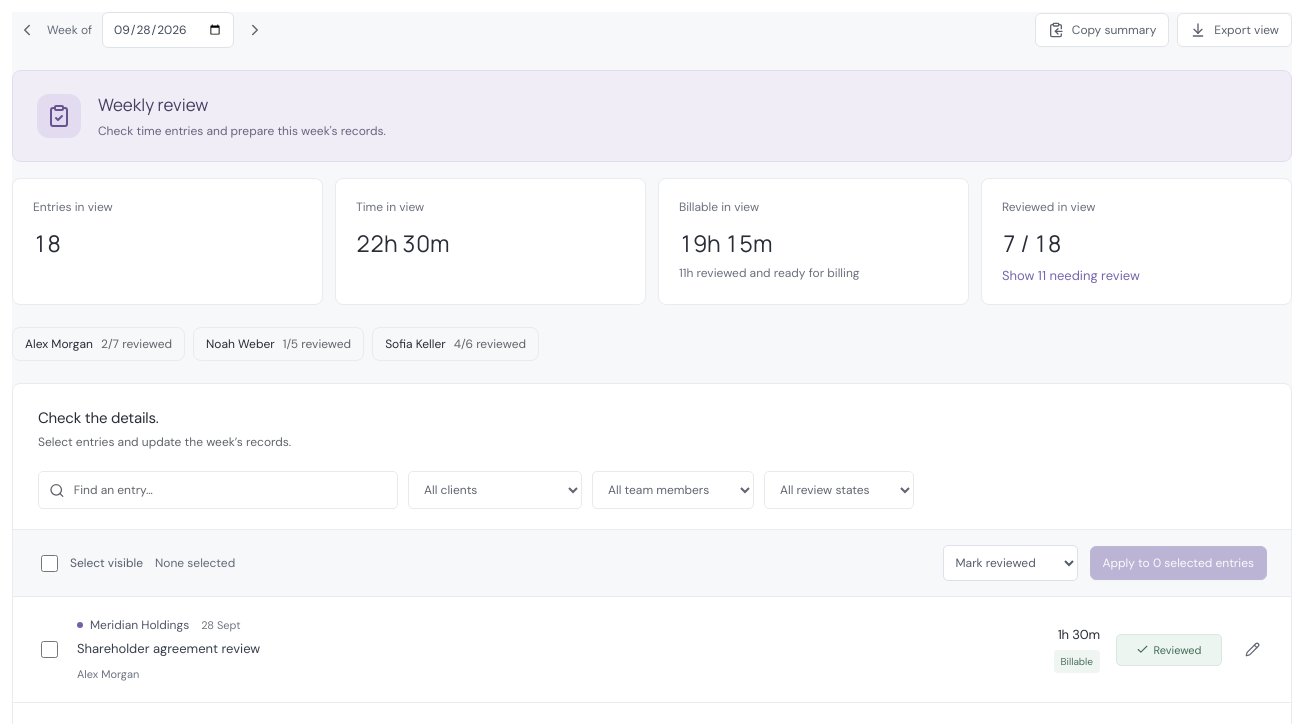
Test case: Weekly review scope › shows reviewed billable time and lets you clear active filters
Select "Meridian Holdings" in the dropdown named "Review client" at (495, 490), box [408,471,582,509]
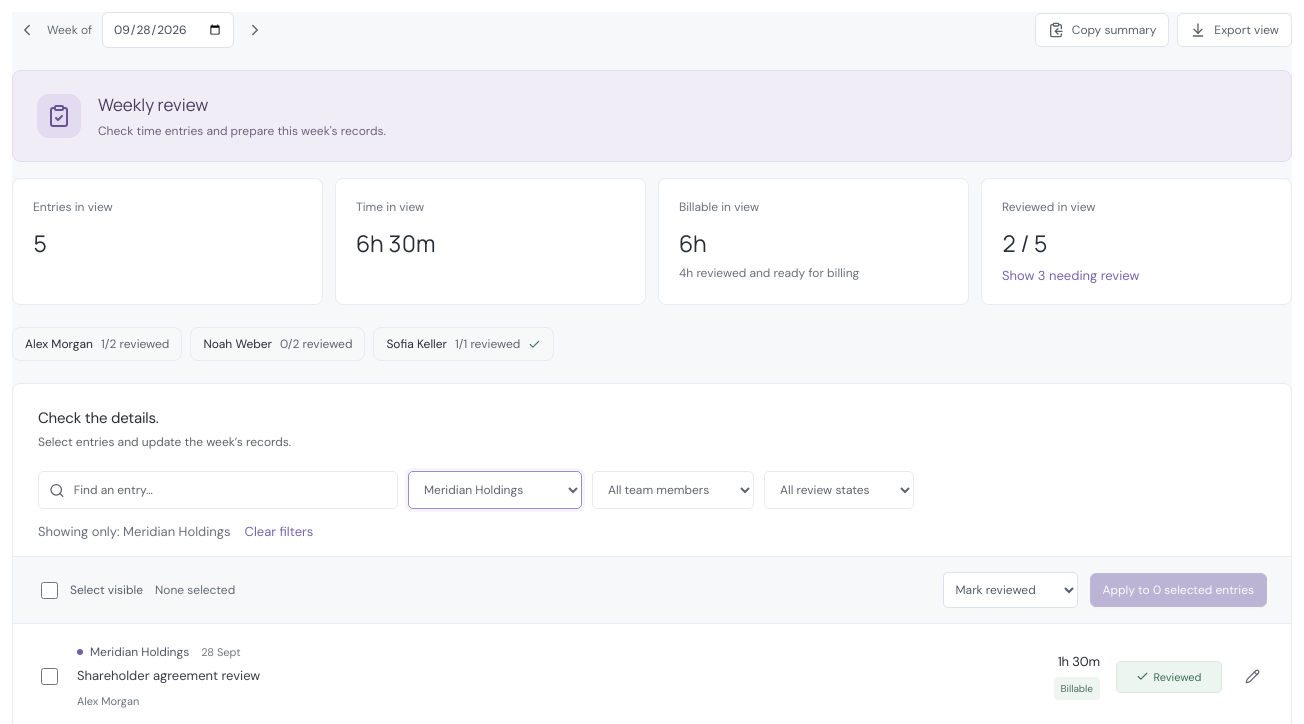
Expected: the text "Showing only: Meridian Holdings" is shown, [38,523,231,540]
Click the button "Clear filters" at (279, 532), box [245,523,313,540]
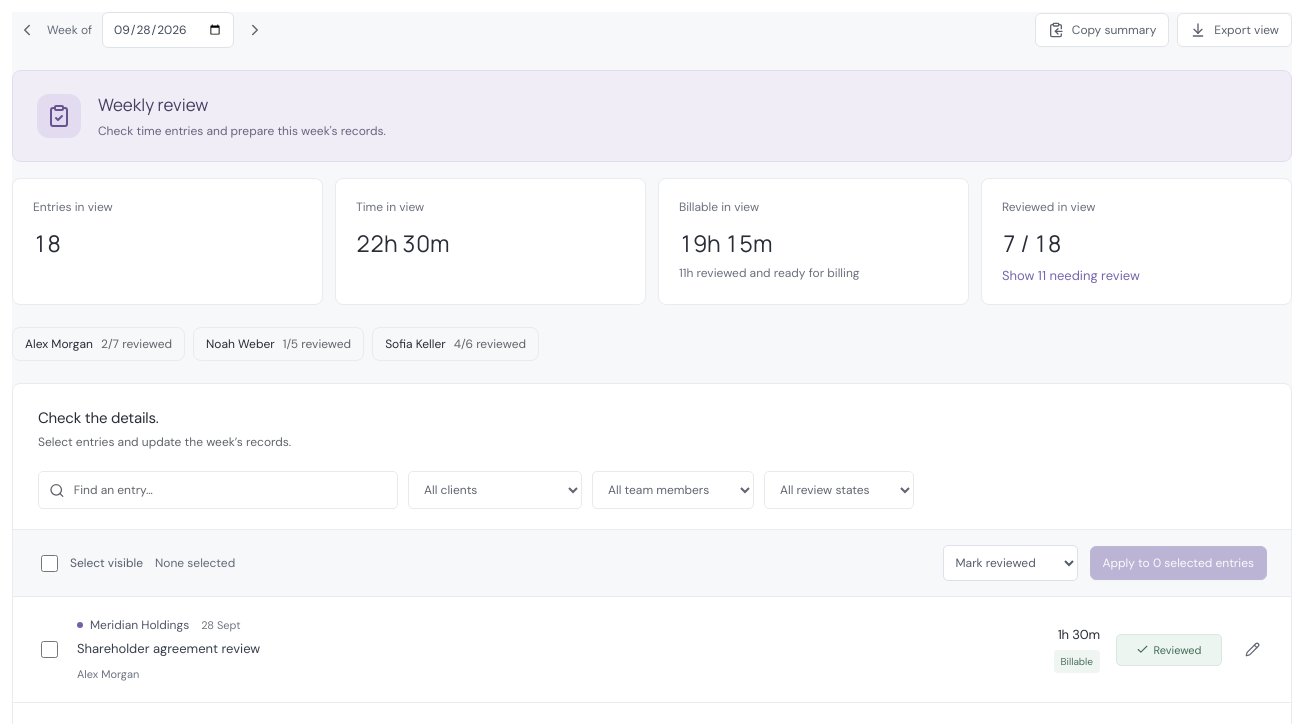
Expected: the text "Showing only" is gone
